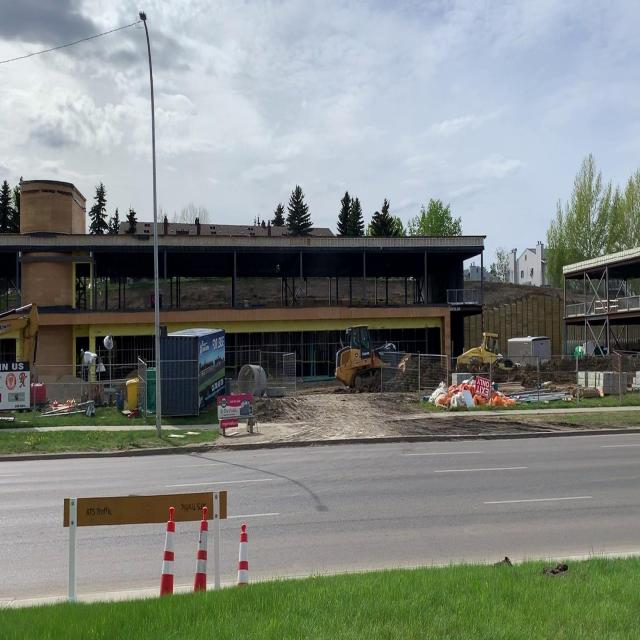Excavator: (2, 299, 40, 408)
Loader: (332, 320, 400, 396)
Roller: (455, 329, 512, 390)
